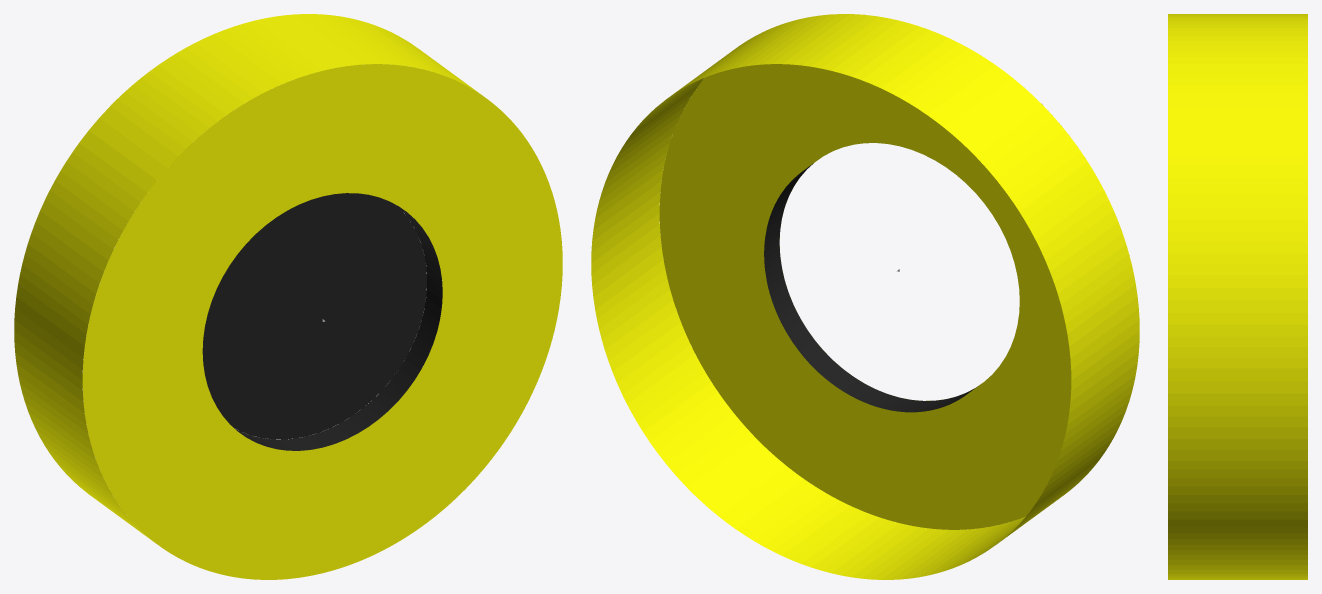
3 views of the same model, side by side, from view 1: azimuth 30°, elevation 25°; view 2: azimuth 150°, elevation 25°; view 3: azimuth 270°, elevation 25° (orthographic). The views are drawn at different scales.
Visible parts, largest first — view 1: node; view 2: node; view 3: node.
Boxes of the visible parts, x1,y1,x2,y2 form: node: (14, 14, 562, 579); node: (591, 14, 1139, 579); node: (1168, 14, 1307, 579).
Size of the model in its own units: 160 by 160 by 39.5.
